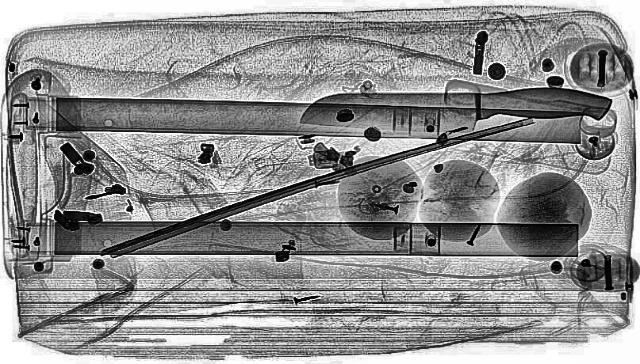Knife: (299, 84, 611, 132)
